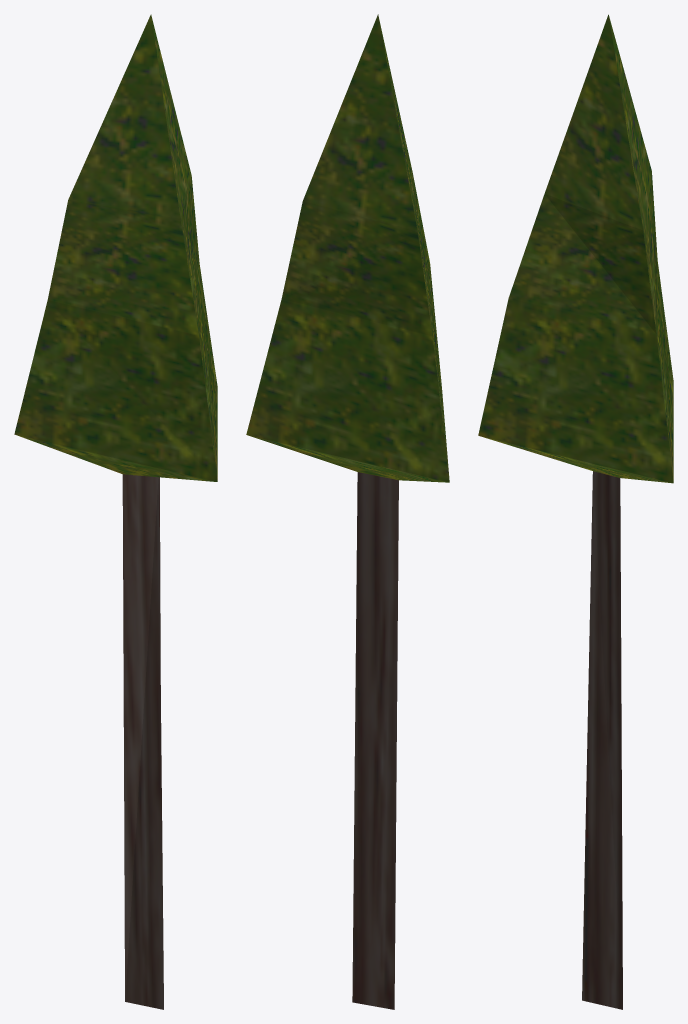
File: tree3b.obj
3 views of the same model, side by side, from view 1: azimuth 30°, elevation 25°; view 2: azimuth 150°, elevation 25°; view 3: azimuth 270°, elevation 25° (orthographic).
Parts seen in each view (by area): view 1: tree3; view 2: tree3; view 3: tree3.
Part boxes in pixels (x1,y1,x2,y2): tree3: (14,14,217,1009); tree3: (246,14,449,1009); tree3: (478,14,673,1009).
Bounding box in the file's own units: 2.64 × 12.23 × 2.2.
